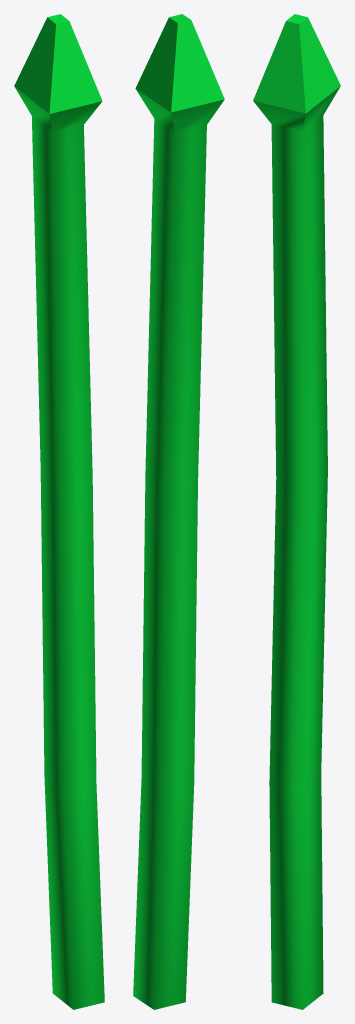
The model's file is Metal_Stem_02.fbx.
The picture shows the model from 3 angles, left to right: view 1: azimuth 30°, elevation 25°; view 2: azimuth 210°, elevation 25°; view 3: azimuth 330°, elevation 25°; orthographic projection.
Parts seen in each view (by area): view 1: Metal_Stem_02; view 2: Metal_Stem_02; view 3: Metal_Stem_02.
Boxes of the visible parts, bbox=[...] form: Metal_Stem_02: bbox=[14, 14, 104, 1009]; Metal_Stem_02: bbox=[133, 14, 224, 1009]; Metal_Stem_02: bbox=[253, 14, 340, 1009].
Size of the model in its own units: 0.3867 by 6.78 by 0.4784.
